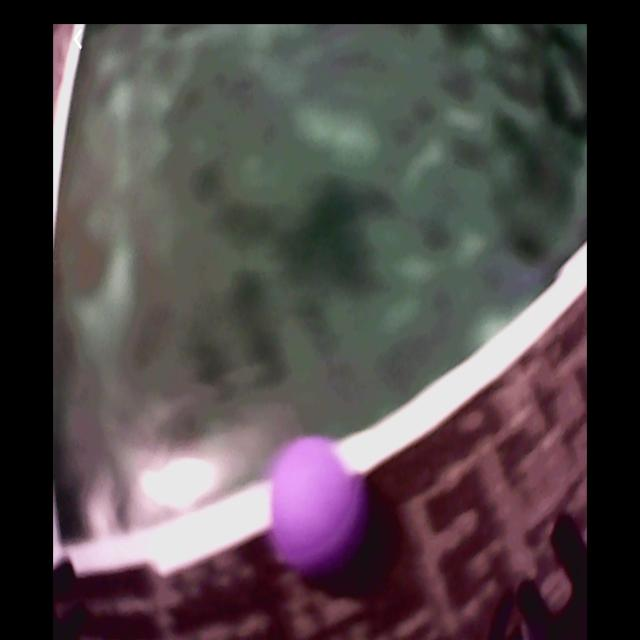ball: (266, 435, 364, 576)
